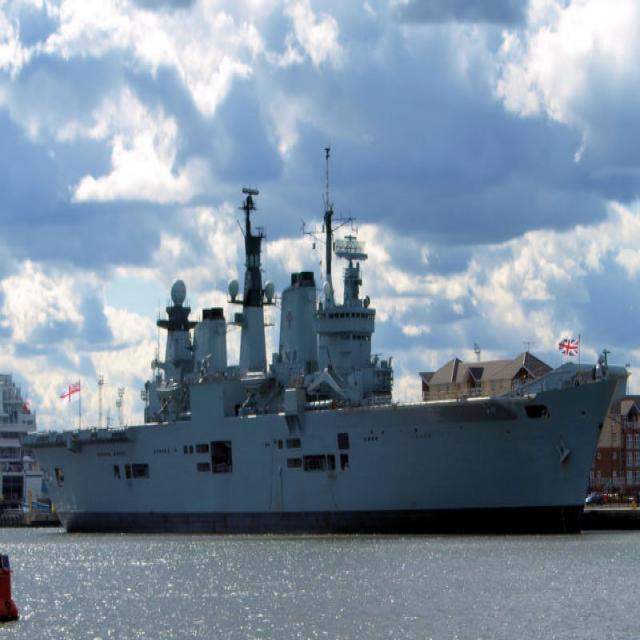Portanaves: (25, 152, 621, 545)
